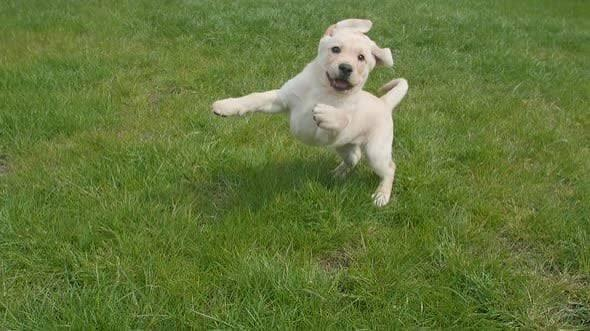puppy-dog: (209, 17, 410, 208)
